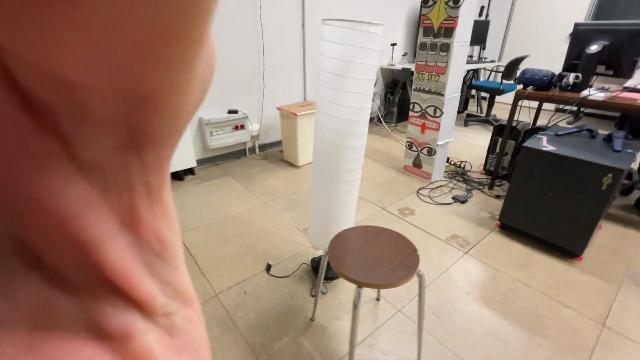Lamp: (304, 13, 386, 284)
Stool: (306, 220, 432, 360)
